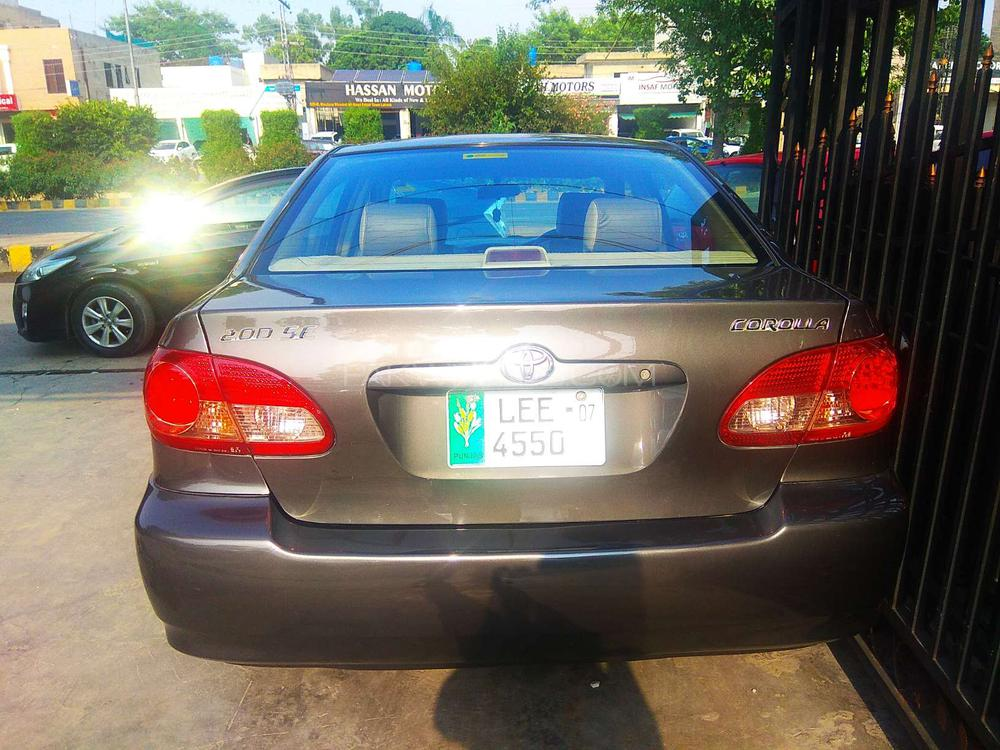license plate: (448, 392, 606, 471)
